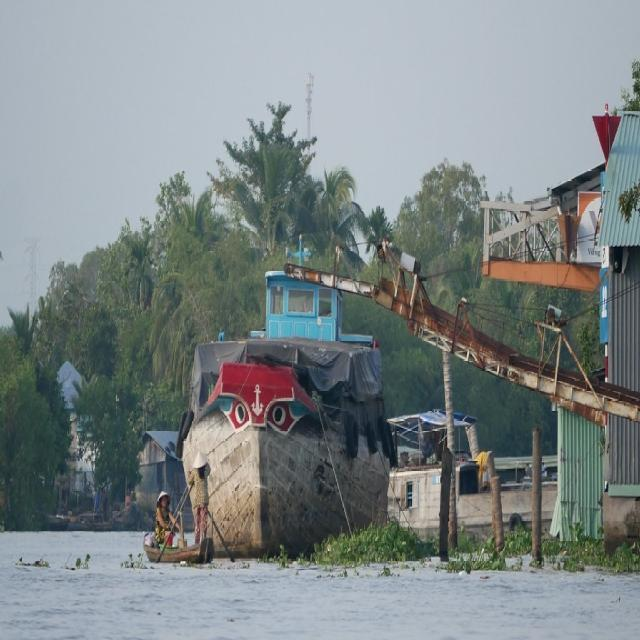Hyacinth: (323, 507, 415, 575), (559, 526, 637, 582), (427, 550, 522, 575), (488, 526, 544, 556), (62, 549, 96, 575), (14, 559, 56, 574), (116, 553, 150, 571)
boat: (180, 266, 385, 567), (145, 535, 219, 576)
